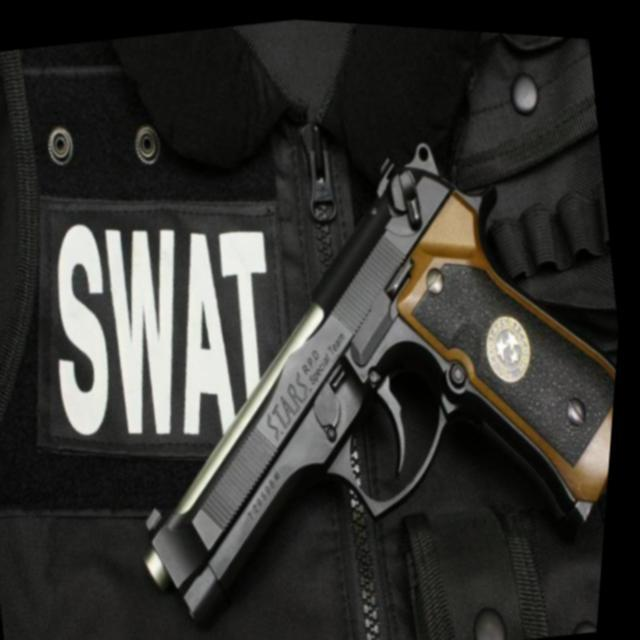weapon: (80, 88, 635, 640)
